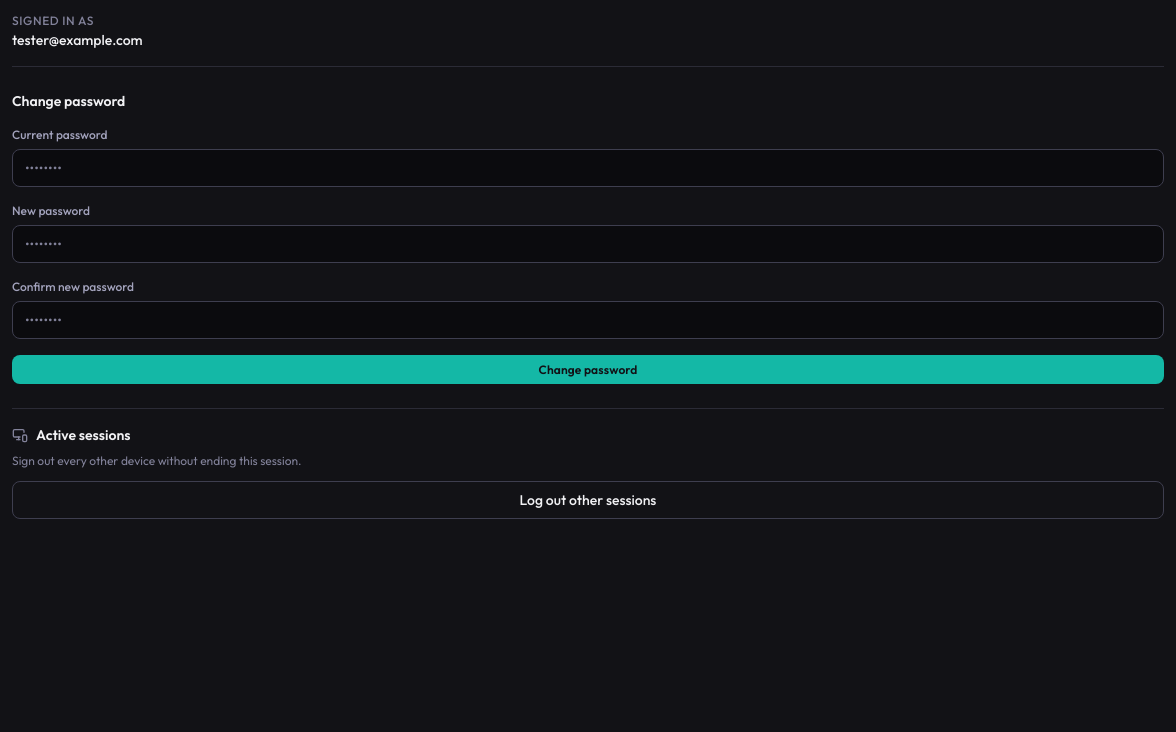
Scenario: AccountSection › shows a client-side error when the new passwords do not match
Type "old-secret-123" into the password field labelled "Current password" at (588, 168), box [12,149,1164,187]
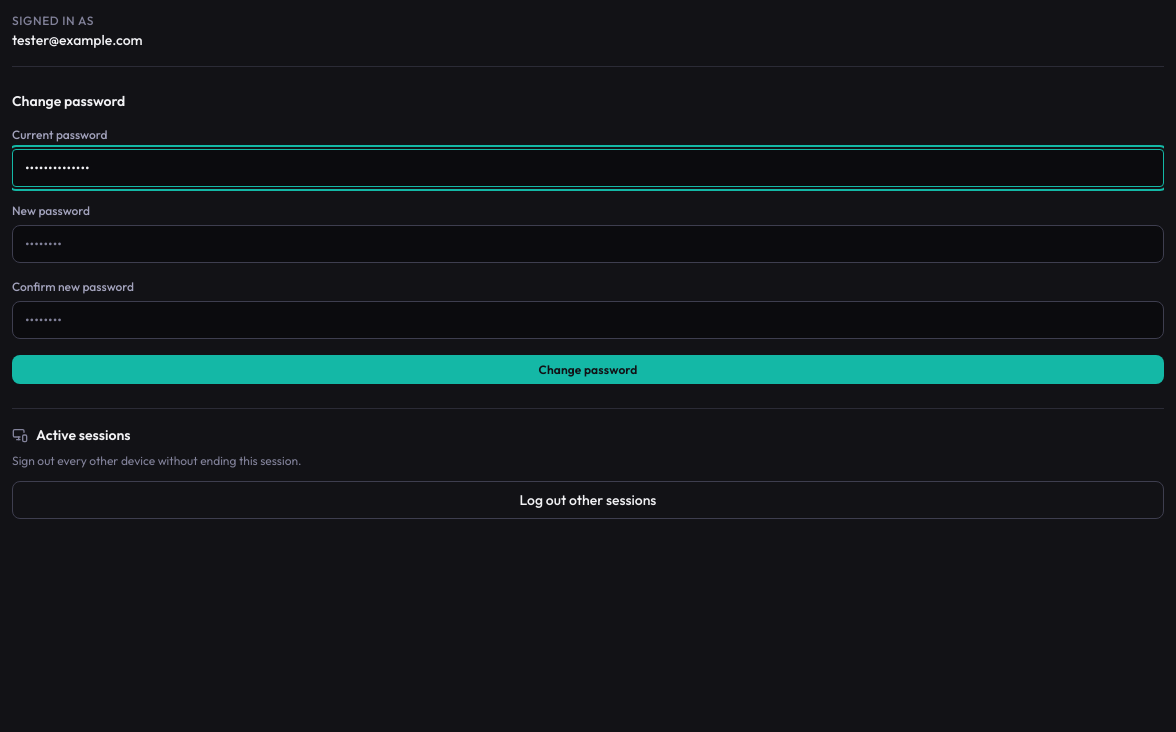
Type "new-secret-456" into the password field labelled "New password" at (588, 244), box [12,225,1164,263]
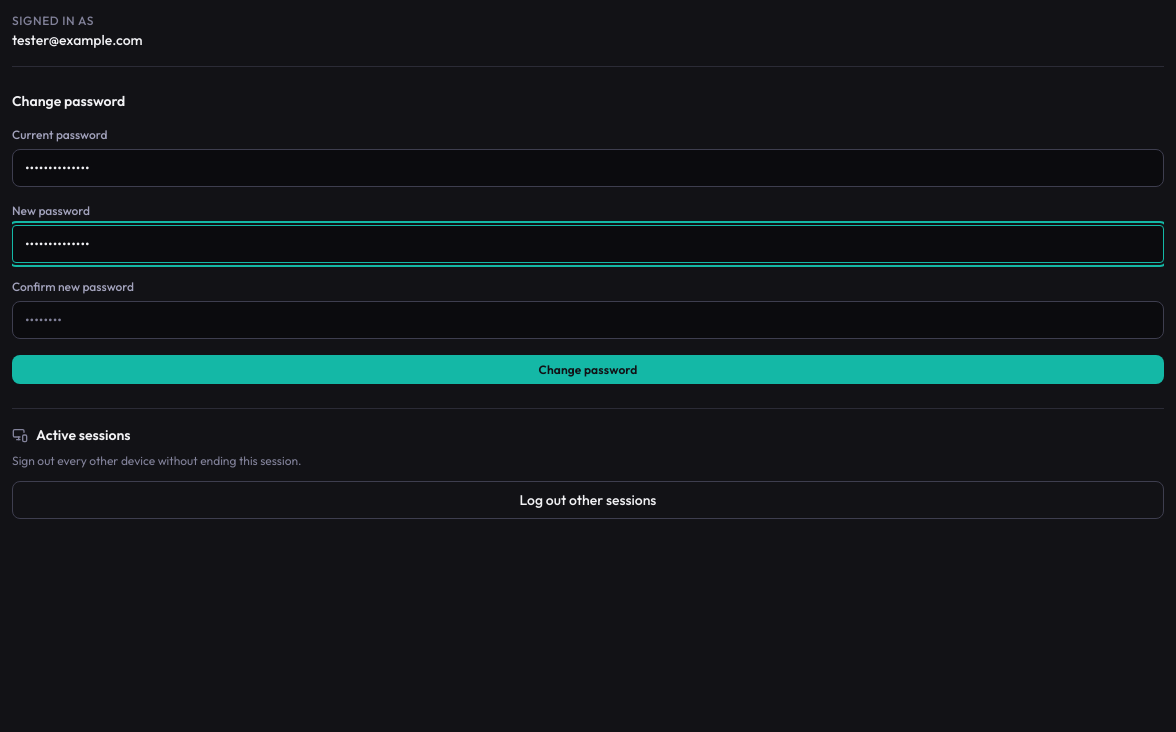
Type "different-secret-789" into the password field labelled "Confirm new password" at (588, 320), box [12,301,1164,339]
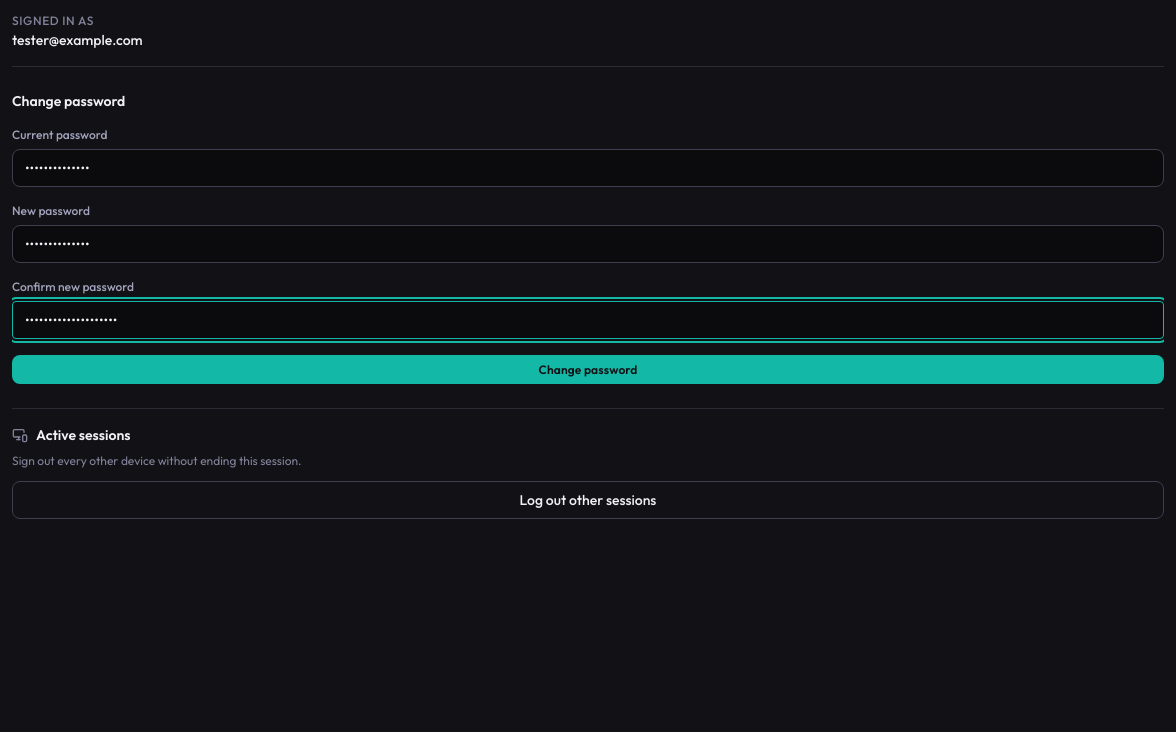
Click the button "Change password" at (588, 370), box [12,355,1164,384]
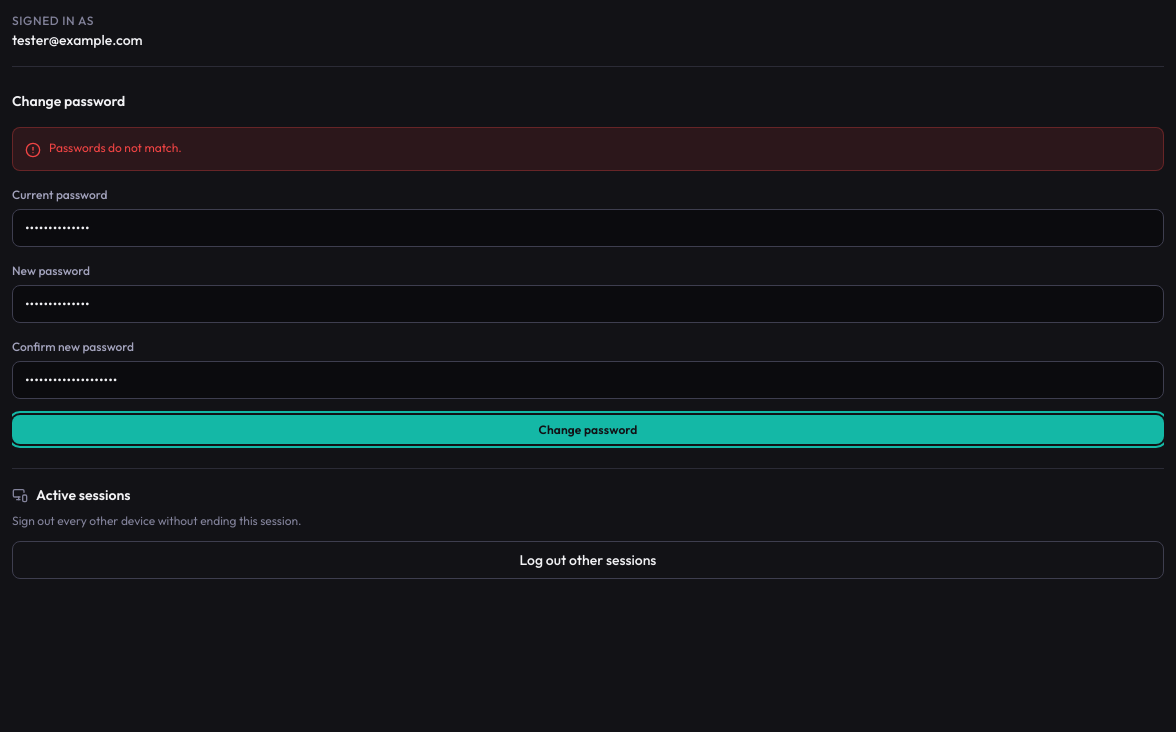
Check: the text "Passwords do not match." is shown, box [49,140,182,156]
